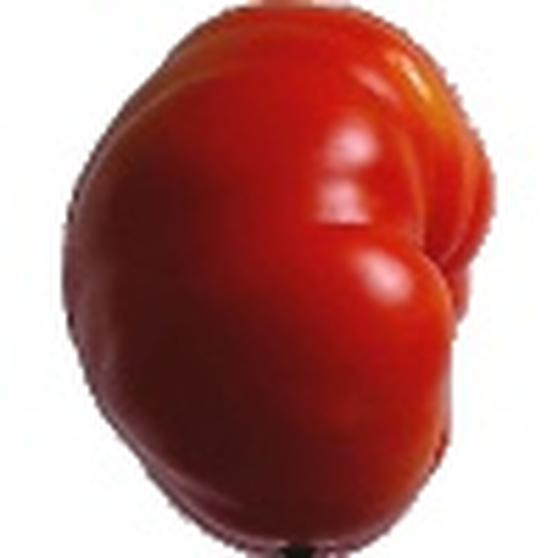tomato: (65, 11, 504, 558)
